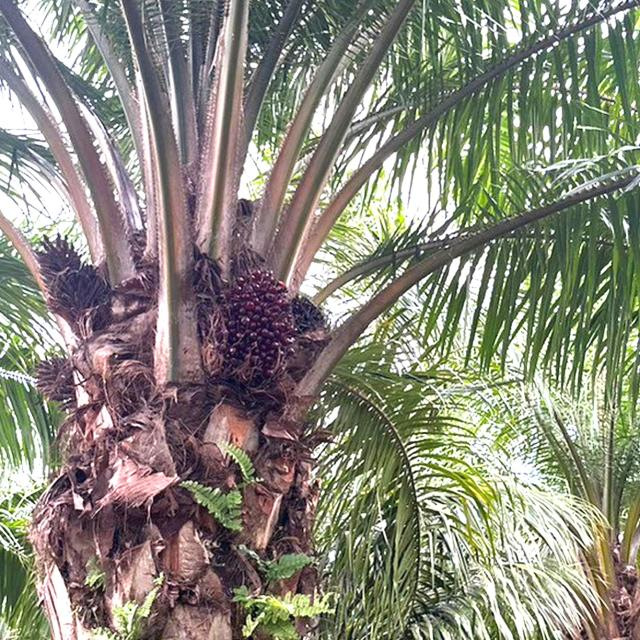ripe: (208, 252, 305, 396)
